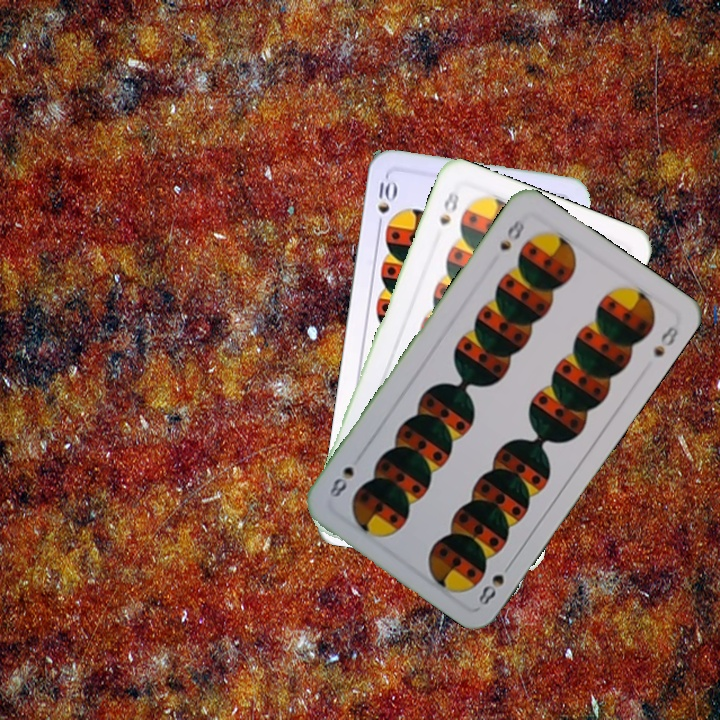S10: (373, 173, 399, 232)
S8: (474, 556, 516, 608), (495, 213, 527, 254), (435, 186, 462, 228)
